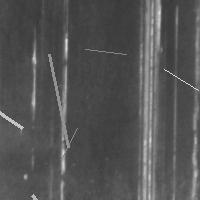scratches: (133, 1, 163, 199), (44, 49, 73, 152), (56, 26, 73, 199), (26, 32, 41, 124), (159, 64, 200, 95), (56, 123, 82, 164), (0, 97, 27, 133), (80, 44, 131, 59), (27, 190, 98, 200)
